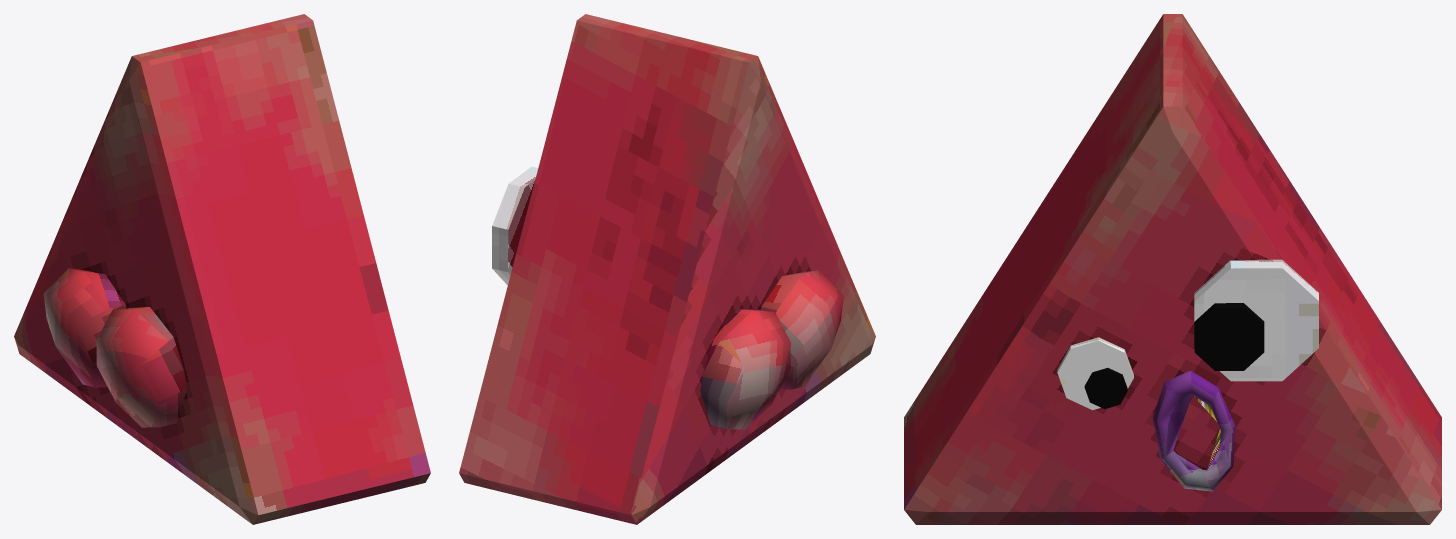
The model's file is item_blox_triangle.glb.
3 renders of one model, left to right at view 1: azimuth 30°, elevation 25°; view 2: azimuth 150°, elevation 25°; view 3: azimuth 270°, elevation 25°, orthographic. The views are drawn at different scales.
Parts seen in each view (by area): view 1: Blox_Triangle; view 2: Blox_Triangle; view 3: Blox_Triangle.
Part boxes in pixels (x1,y1,x2,y2): Blox_Triangle: [14, 14, 430, 524]; Blox_Triangle: [459, 14, 875, 524]; Blox_Triangle: [904, 14, 1441, 524].
Size of the model in its own units: 0.1918 by 0.2744 by 0.3198.
Materials: 1 (1 with a texture image).
